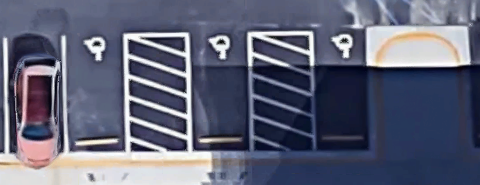Occupied: (4, 34, 66, 154)
Vacant: (187, 32, 251, 154), (64, 34, 127, 154), (312, 31, 373, 152)
